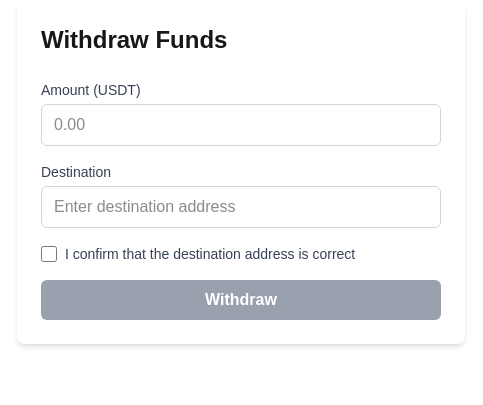
Test: WithdrawForm › form validation: prevents submission with invalid data
This screenshot has width=483, height=405.
Expected: the button "Withdraw" is disabled, left=41, top=280, right=441, bottom=320
In the field labelled "Amount (USDT)": (241, 125) left=41, top=104, right=441, bottom=146, type "-100"
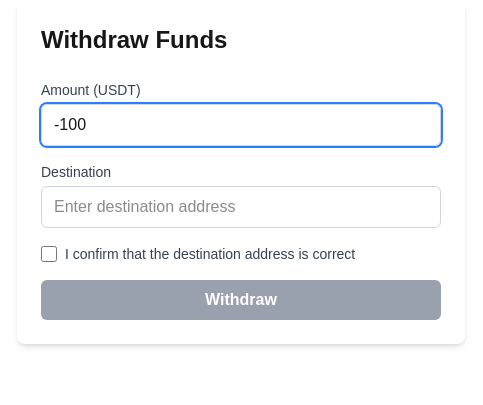
Leave the field labelled "Amount (USDT)", box left=41, top=104, right=441, bottom=146
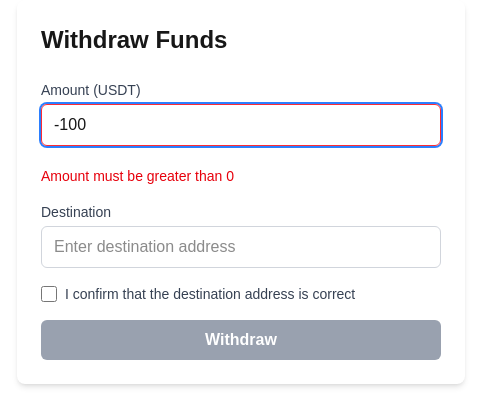
Expected: the button "Withdraw" is disabled, left=41, top=320, right=441, bottom=360
Now the text "Amount must be greater than 0" is shown, box left=41, top=168, right=234, bottom=184
Replace the text in the field labelled "Amount (USDT)" with "100": (241, 125) left=41, top=104, right=441, bottom=146
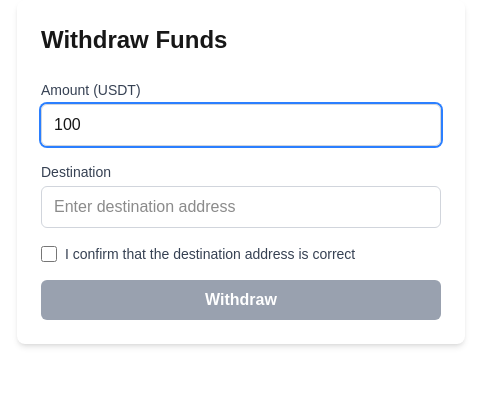
Expected: the button "Withdraw" is disabled, left=41, top=280, right=441, bottom=320
In the field labelled "Destination": (241, 207) left=41, top=186, right=441, bottom=228, type "0x1234567890123456789012345678901234567890"
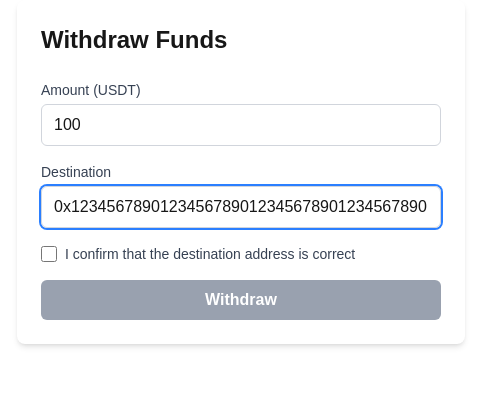
Expected: the button "Withdraw" is disabled, left=41, top=280, right=441, bottom=320
Click the checkbox labelled "I confirm that the destination address is correct": (49, 254) left=41, top=246, right=57, bottom=262
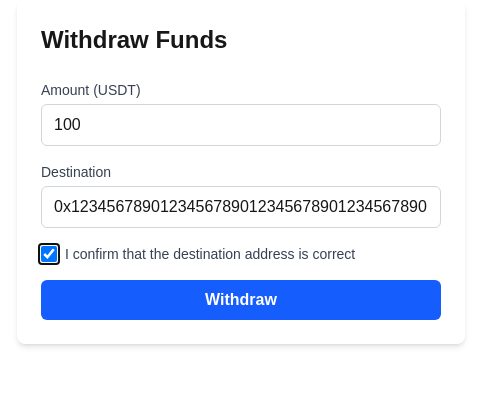
Now the button "Withdraw" is enabled, box left=41, top=280, right=441, bottom=320
